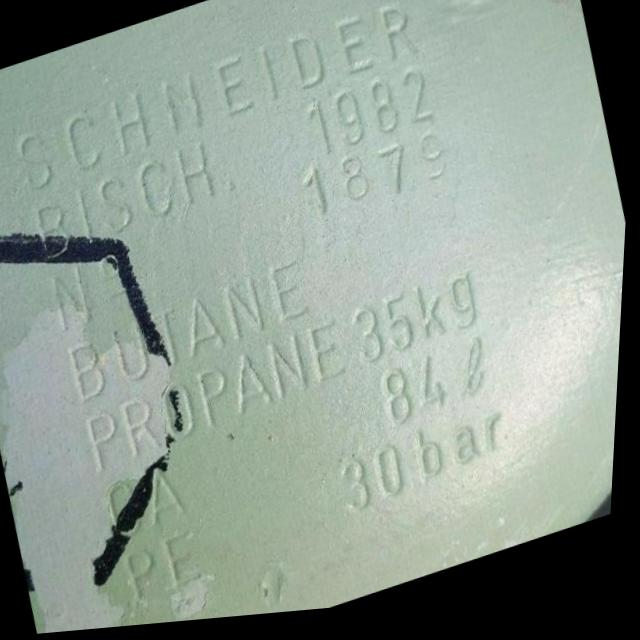ocr: (5, 0, 430, 195), (70, 314, 364, 485), (56, 257, 327, 405), (23, 136, 247, 267), (334, 409, 528, 529), (295, 124, 466, 237), (341, 267, 500, 383), (289, 61, 450, 171), (374, 343, 505, 443), (93, 457, 208, 552), (40, 242, 149, 342), (120, 523, 223, 619)
